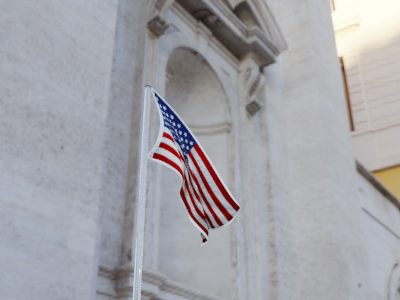America flag: (150, 86, 241, 245)
